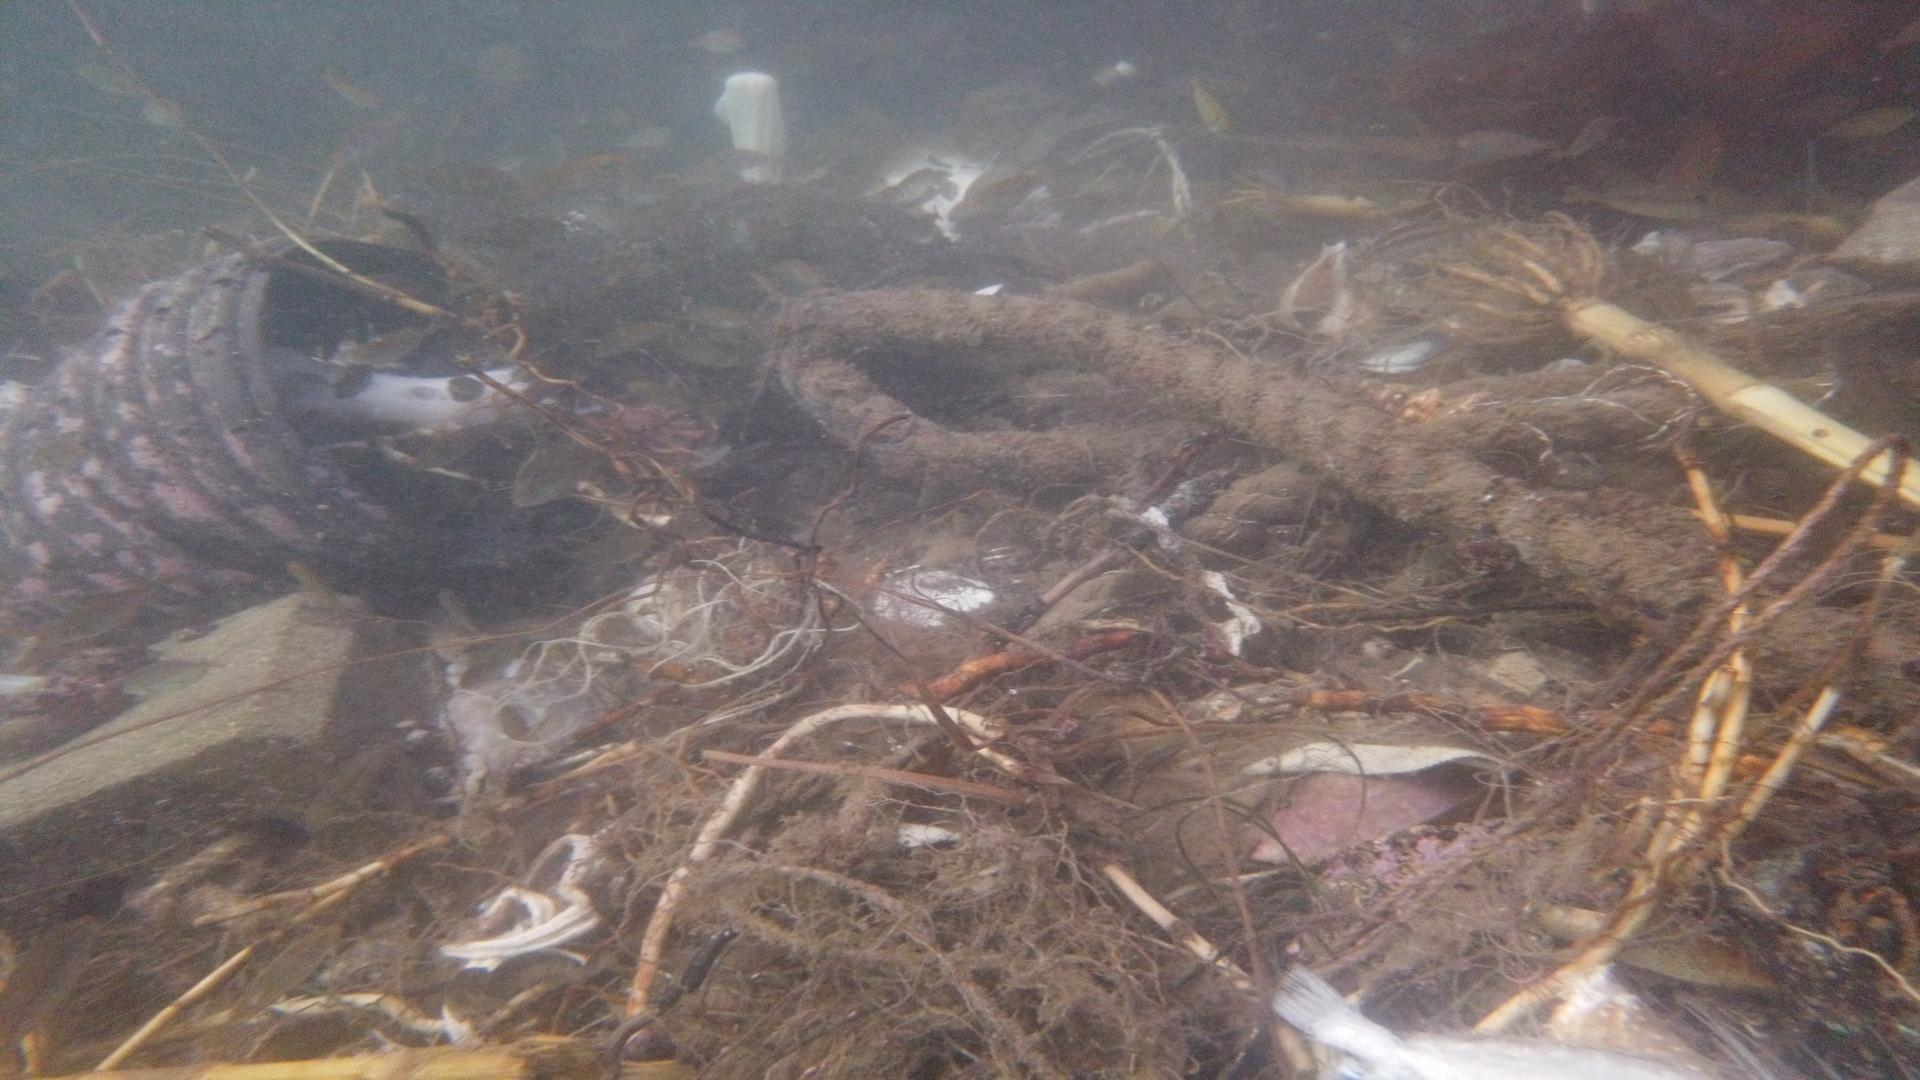bundle of ropes: (767, 280, 1731, 644)
